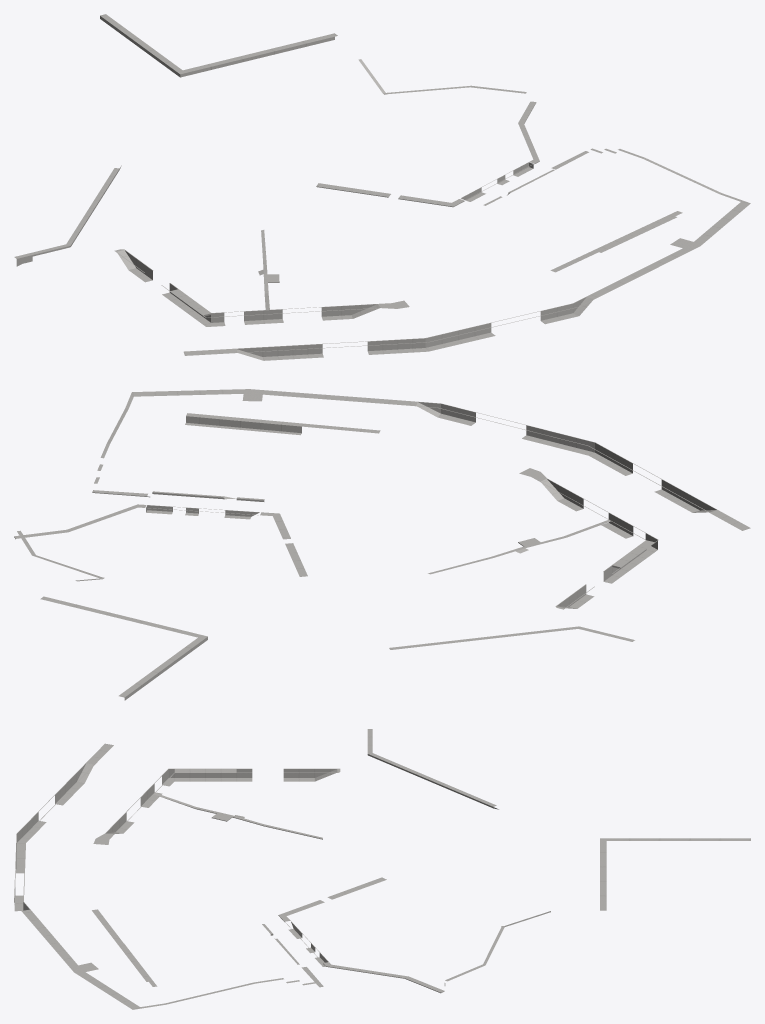
The model's file is kd_stage_135ebf_0_18_bounded.glb.
3 renders of one model, top to bottom at view 1: azimuth 30°, elevation 25°; view 2: azimuth 150°, elevation 25°; view 3: azimuth 270°, elevation 25°, orthographic. The views are drawn at different scales.
Parts seen in each view (by area): view 1: kd_stage_135ebf_0_18_bounded; view 2: kd_stage_135ebf_0_18_bounded; view 3: kd_stage_135ebf_0_18_bounded.
Part boxes in pixels (box(x1,y1,x2,y2)): kd_stage_135ebf_0_18_bounded: box(14, 14, 750, 360); kd_stage_135ebf_0_18_bounded: box(14, 389, 750, 700); kd_stage_135ebf_0_18_bounded: box(14, 729, 750, 1009).
Size of the model in its own units: 20 by 1.15 by 22.3.
1 material, 1 textured.
